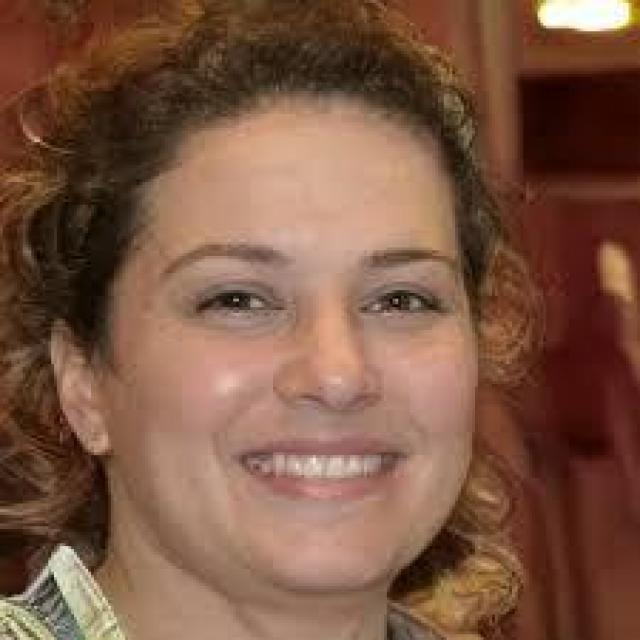person: (3, 0, 543, 637)
